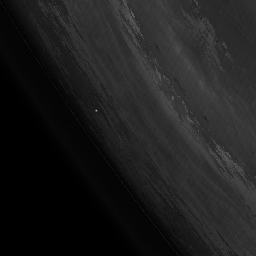Target: (92, 107, 98, 112)
